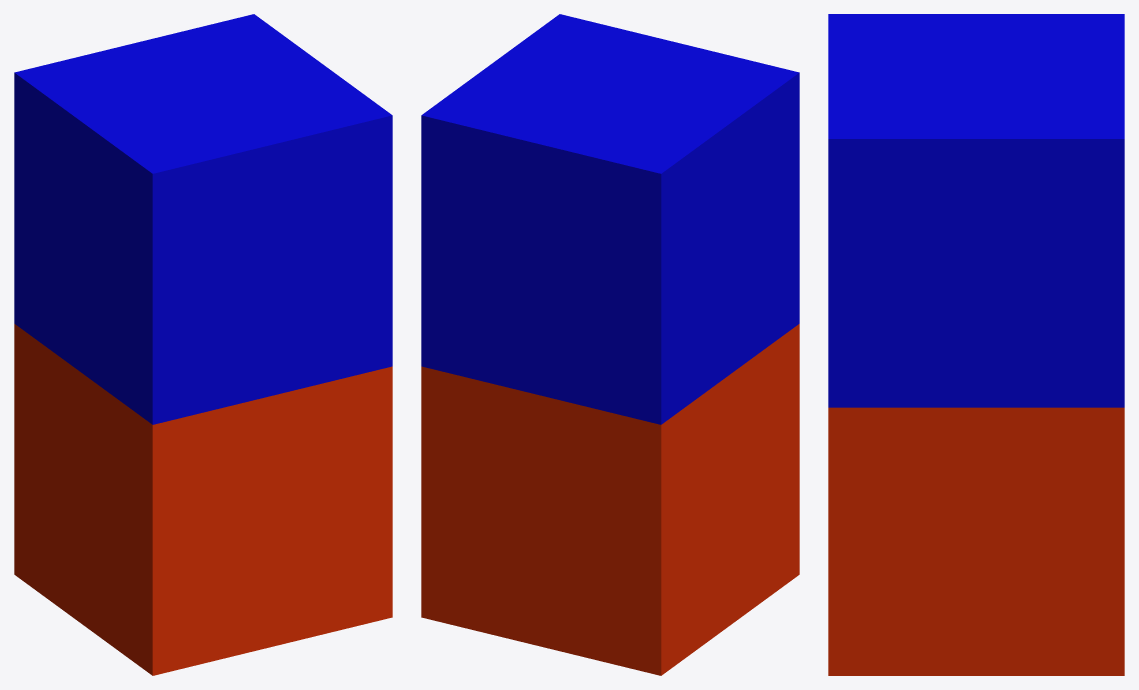
File: VoidFace2.fbx
3 views of the same model, side by side, from view 1: azimuth 30°, elevation 25°; view 2: azimuth 150°, elevation 25°; view 3: azimuth 270°, elevation 25° (orthographic). The views are drawn at different scales.
Visible parts, largest first — view 1: FrontSide, BackSide; view 2: FrontSide, BackSide; view 3: FrontSide, BackSide.
Boxes of the visible parts, left/top/right/bottom form: FrontSide: left=14, top=14, right=392, bottom=424; BackSide: left=14, top=324, right=392, bottom=675; FrontSide: left=421, top=14, right=799, bottom=424; BackSide: left=421, top=324, right=799, bottom=675; FrontSide: left=828, top=14, right=1124, bottom=407; BackSide: left=828, top=407, right=1124, bottom=675.
Size of the model in its own units: 800 by 1600 by 800.
